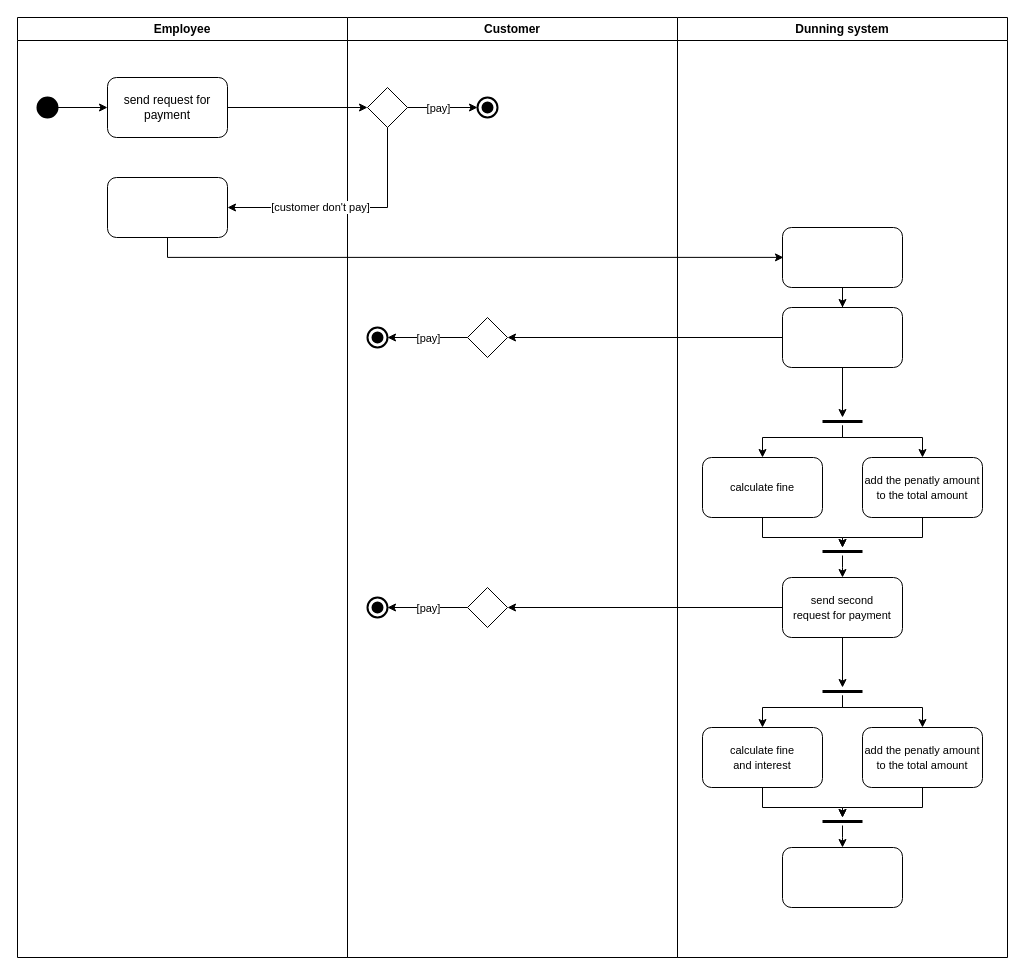
Image size: 1025x975. Some labels were removed from this diagram. The centre of each missing label's shape, as x and y in pixels:
"observe incoming payments" belongs at (x=842, y=257).
"send first request for payment" belongs at (x=842, y=337).
"start dunning procedure" belongs at (x=167, y=207).
"start judical dunning Procedure" belongs at (x=842, y=877).
